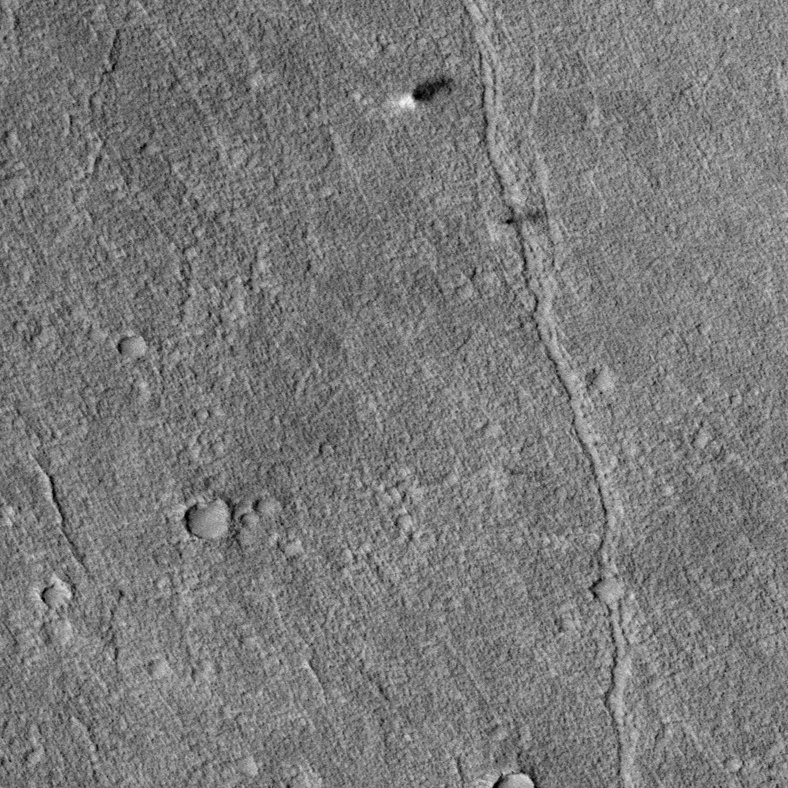dust_devil: (395, 73, 458, 113), (484, 205, 550, 242)
